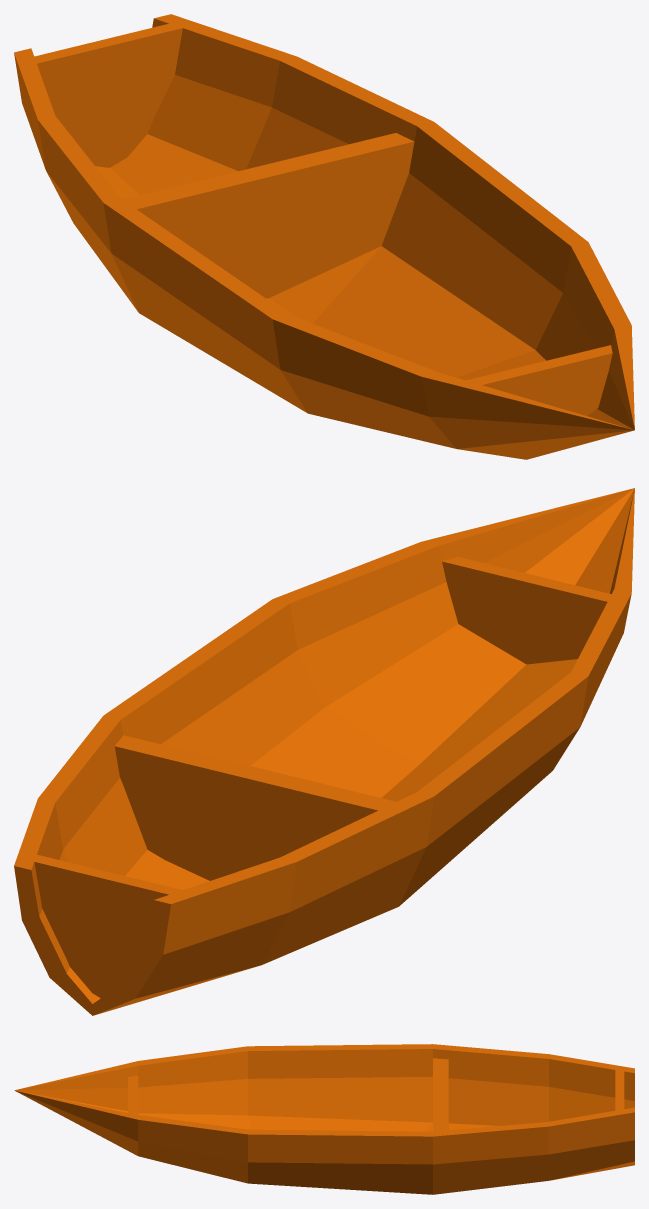
Rendered from Ship.fbx.
3 views of the same model, one above another, from view 1: azimuth 30°, elevation 25°; view 2: azimuth 150°, elevation 25°; view 3: azimuth 270°, elevation 25° (orthographic). The views are drawn at different scales.
Parts seen in each view (by area): view 1: pPlane12; view 2: pPlane12; view 3: pPlane12.
Boxes of the visible parts, x1,y1,x2,y2 form: pPlane12: [14, 14, 634, 459]; pPlane12: [14, 488, 634, 1015]; pPlane12: [14, 1044, 634, 1194].
Bounding box in the file's own units: 7.05 × 3.03 × 20.
